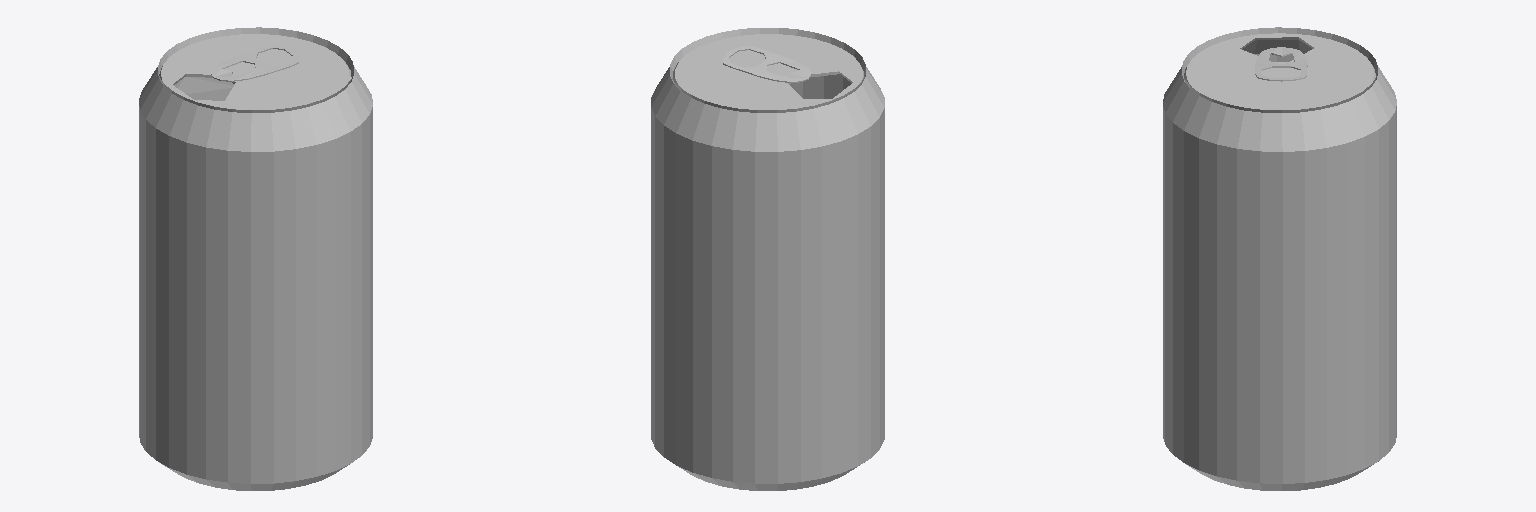
Rendered from can.obj.
3 views of the same model, side by side, from view 1: azimuth 30°, elevation 25°; view 2: azimuth 150°, elevation 25°; view 3: azimuth 270°, elevation 25° (orthographic).
Parts seen in each view (by area): view 1: Cylinder; view 2: Cylinder; view 3: Cylinder.
Part boxes in pixels (x1,y1,x2,y2): Cylinder: (139, 27, 372, 490); Cylinder: (651, 28, 884, 490); Cylinder: (1163, 27, 1396, 490).
Size of the model in its own units: 0.8147 by 1.49 by 0.8147.